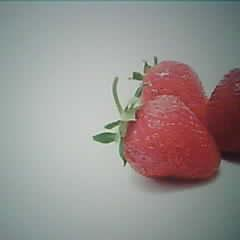straw-ripe: (124, 97, 220, 179)
